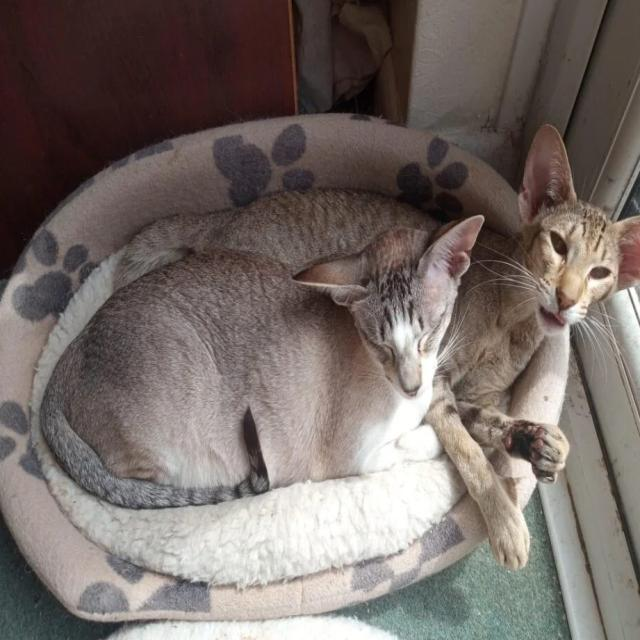Oriental: (34, 211, 487, 487), (459, 97, 640, 570)
